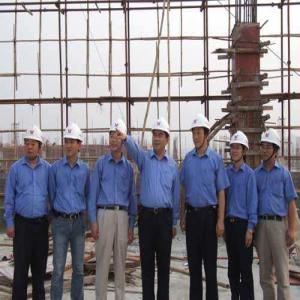white: (259, 129, 282, 168), (23, 125, 43, 163), (64, 124, 85, 160), (152, 119, 172, 154), (228, 131, 249, 164), (192, 114, 211, 150), (108, 120, 128, 154)
